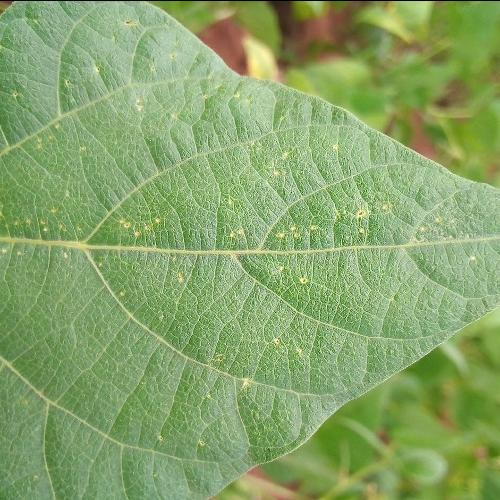sehat: (16, 117, 306, 421)
